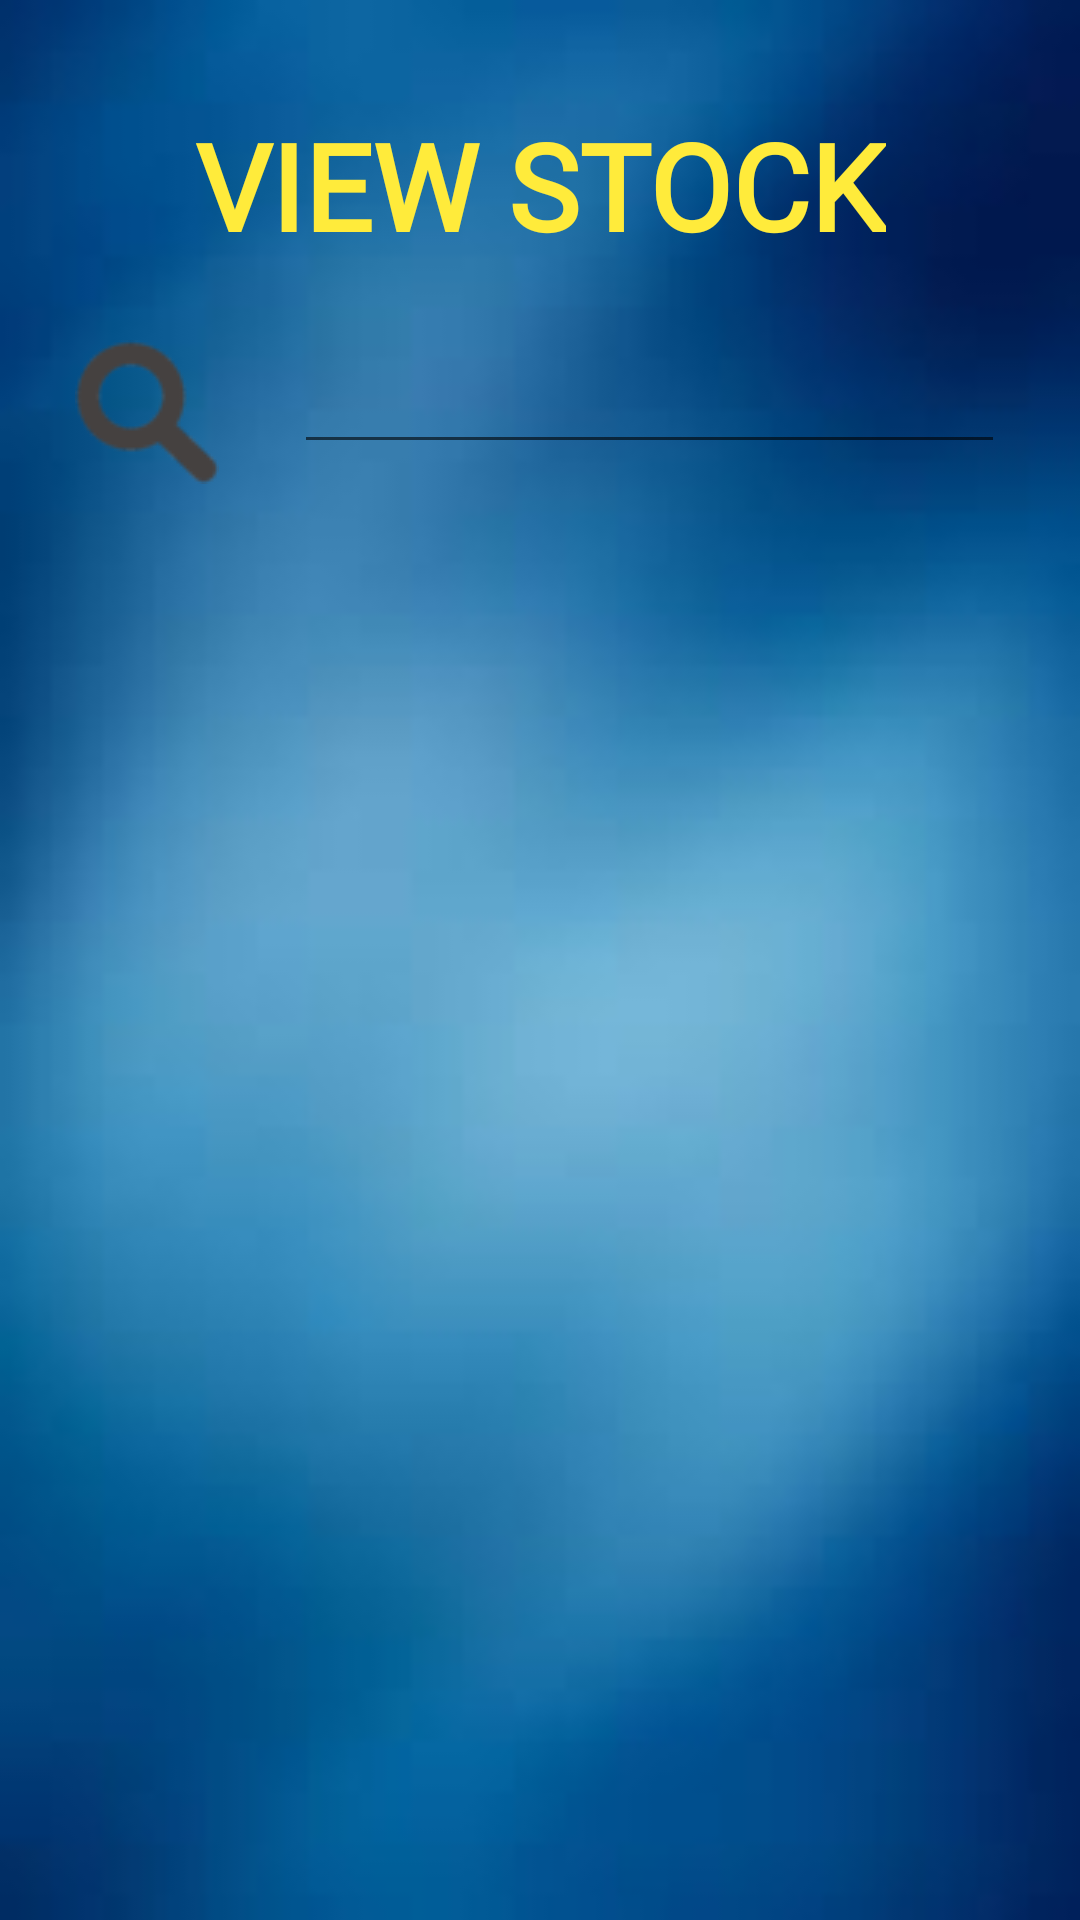

Icons on this 1080×1920 Android screen, each with its box as box=[x1, y1, x2, y2]:
search: box=[77, 342, 219, 484]
